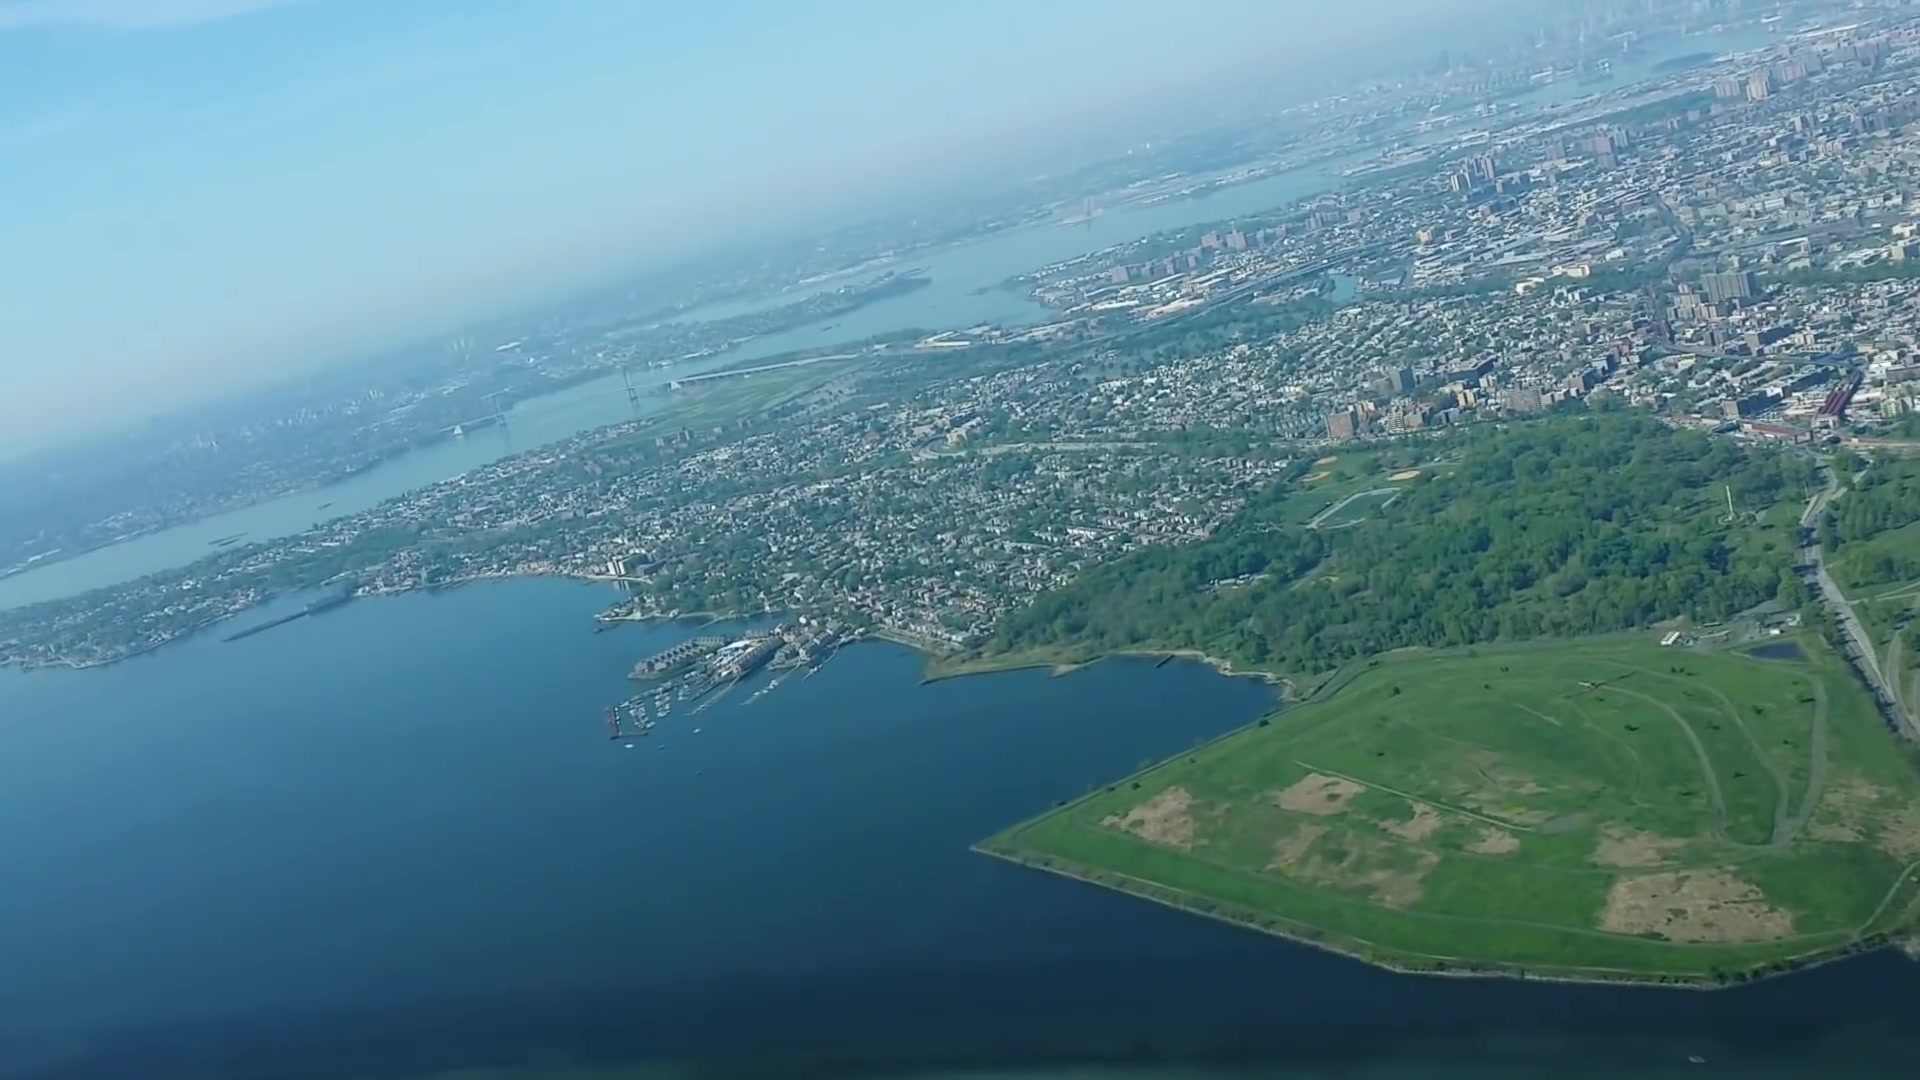runway: (1080, 196, 1095, 218)
